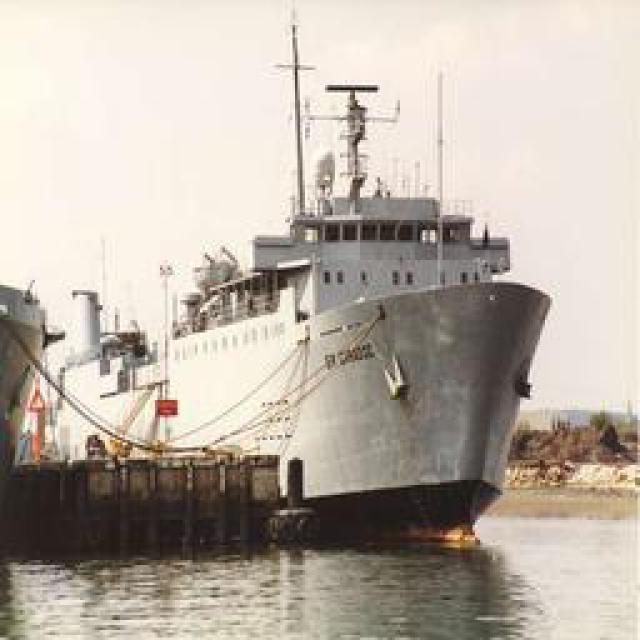Ship: (31, 88, 546, 536)
